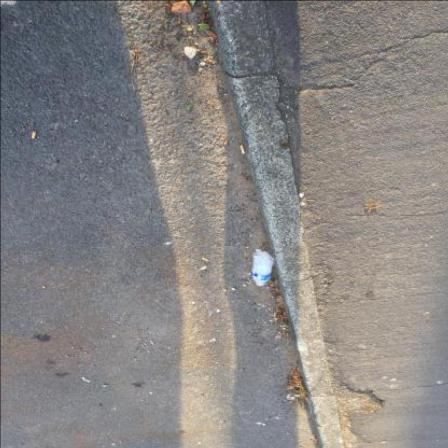Bottle: (253, 252, 277, 287)
Cigarette: (83, 378, 91, 384), (241, 145, 246, 154), (33, 131, 38, 139), (201, 258, 209, 262)
